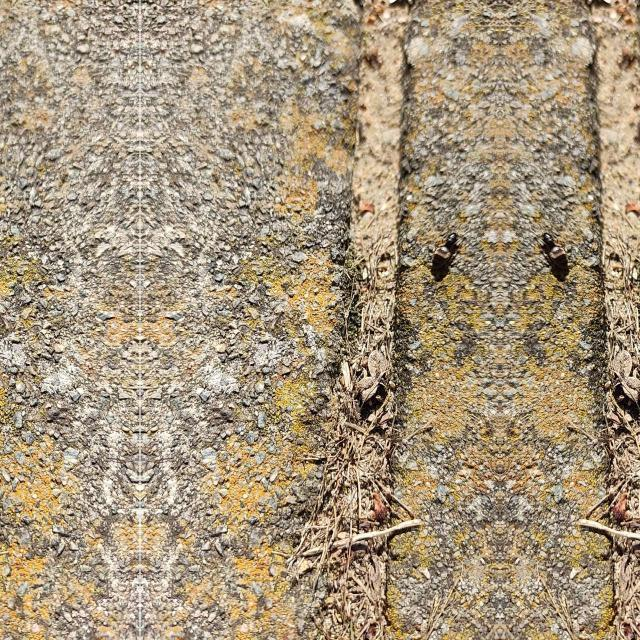Lasius: (422, 228, 466, 278), (534, 228, 578, 278)
